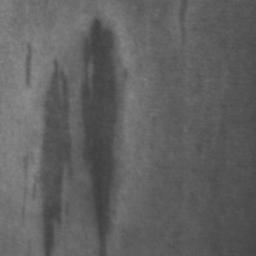Inclusion: (82, 15, 118, 253), (36, 59, 73, 255), (26, 45, 33, 84)
